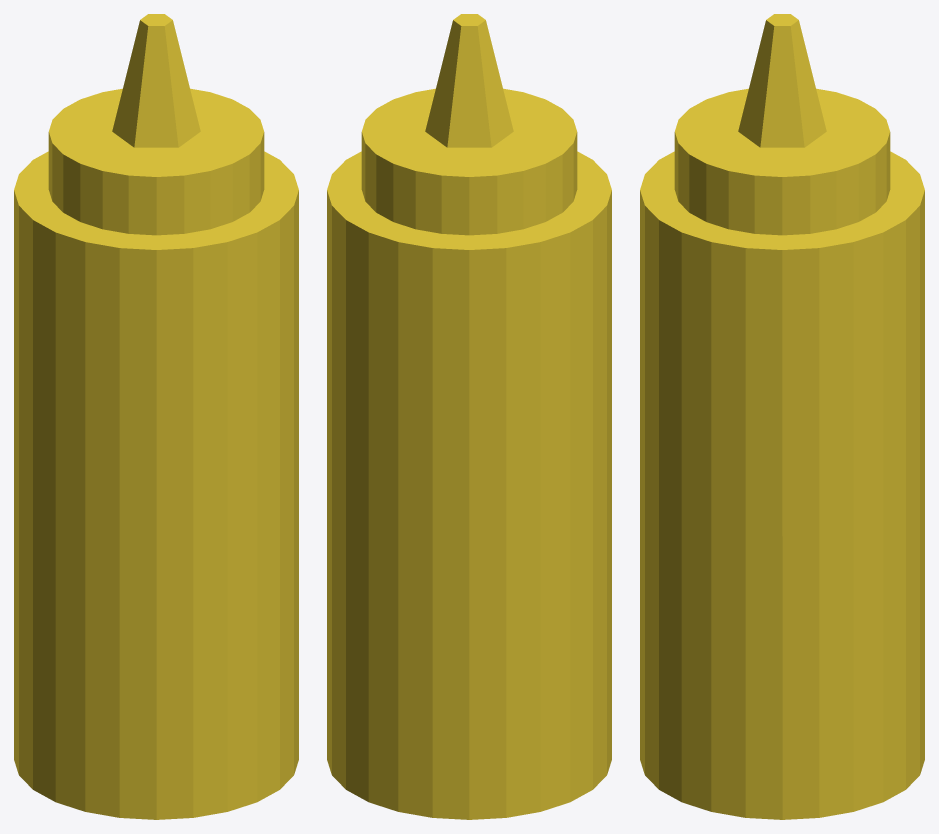
Rendered from Sauce Bottle 2.glb.
3 renders of one model, left to right at view 1: azimuth 30°, elevation 25°; view 2: azimuth 150°, elevation 25°; view 3: azimuth 270°, elevation 25°, orthographic.
Visible parts, largest first — view 1: Sauce Bottle 2; view 2: Sauce Bottle 2; view 3: Sauce Bottle 2.
Boxes of the visible parts, x1=… form: Sauce Bottle 2: x1=14, y1=14, x2=298, y2=819; Sauce Bottle 2: x1=327, y1=14, x2=611, y2=819; Sauce Bottle 2: x1=640, y1=14, x2=924, y2=819.
Bounding box in the file's own units: 0.3 × 0.8595 × 0.3.
